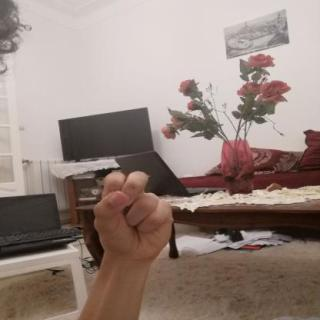QAAF: (76, 165, 188, 267)
